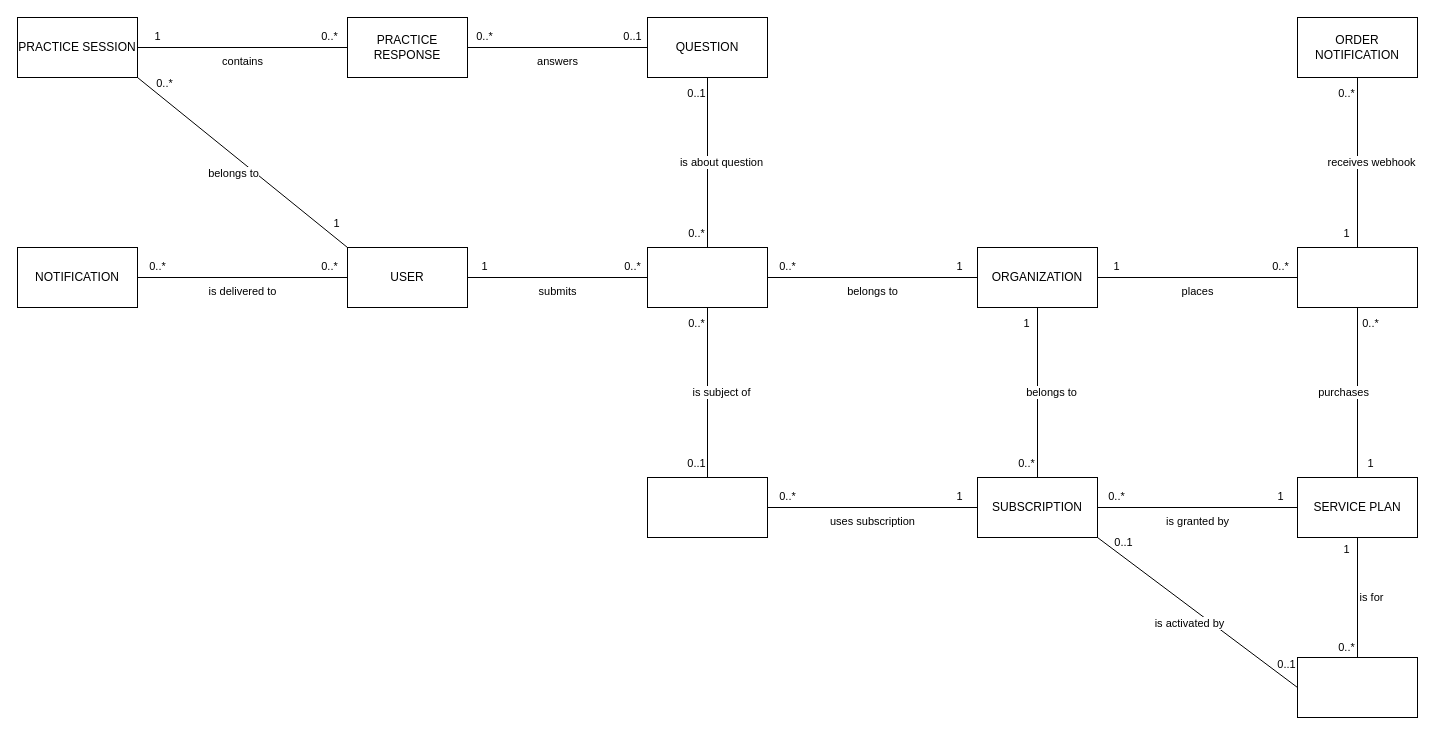
The diagram is 1435 pixels wide and 735 high, and some of its shapes have lost their labels. Each missing label, with the centre of its shape:
"EXAM SESSION" belongs at point (707, 507).
"LICENSE CODE" belongs at point (1357, 687).
"ORDER" belongs at point (1357, 277).
"SUPPORT TICKET" belongs at point (707, 277).
